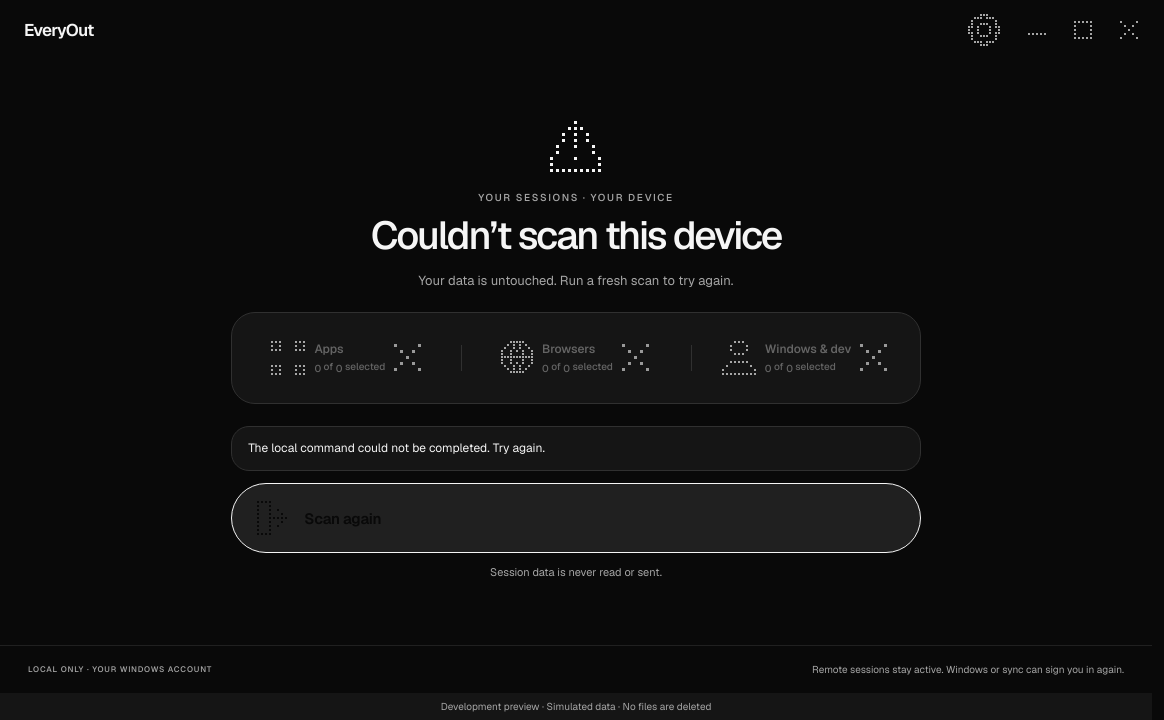
Test: exposes an explicit scan error and recovers with a fresh inventory
The image size is (1164, 720).
Expected: the message reads "The local command could not be completed. Try again.", [248,440,545,456]
Step 1. Click the button "Scan again" → (274, 518), box [231,483,921,553]
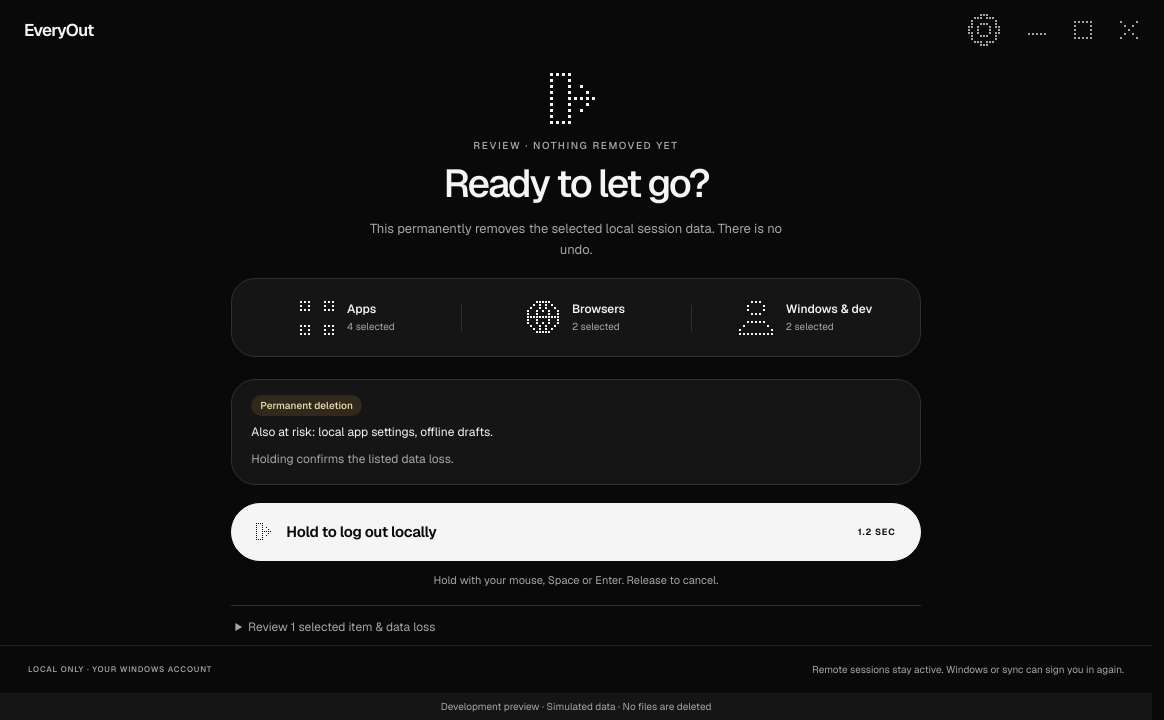
Expected: the button "Hold to log out locally 1.2 SEC" is shown, [231,503,921,561]
